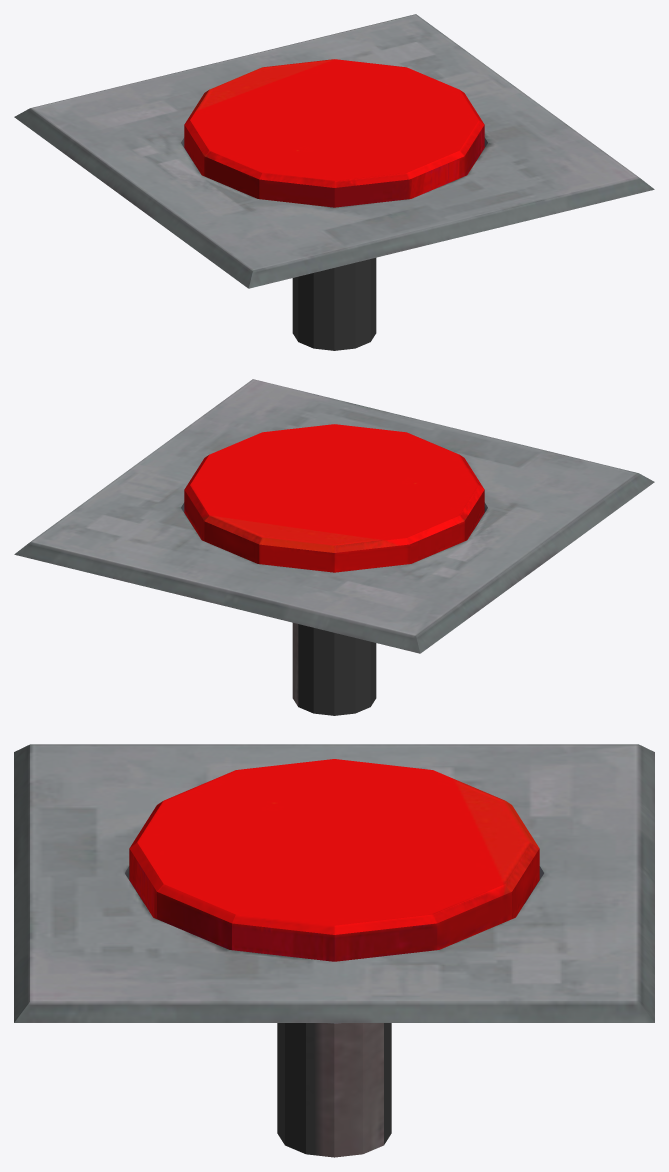
Rendered from tile_switchv1.fbx.
The picture shows the model from 3 angles, top to bottom: view 1: azimuth 30°, elevation 25°; view 2: azimuth 150°, elevation 25°; view 3: azimuth 270°, elevation 25°; orthographic projection. The views are drawn at different scales.
Parts seen in each view (by area): view 1: tile_button_base, button_mesh; view 2: tile_button_base, button_mesh; view 3: tile_button_base, button_mesh.
Part boxes in pixels (x1,y1,x2,y2): tile_button_base: [14, 14, 654, 288]; button_mesh: [184, 59, 484, 350]; tile_button_base: [14, 379, 654, 653]; button_mesh: [184, 424, 484, 715]; tile_button_base: [14, 744, 654, 1023]; button_mesh: [129, 759, 539, 1157].
Bounding box in the file's own units: 0.02 × 0.01 × 0.02.
